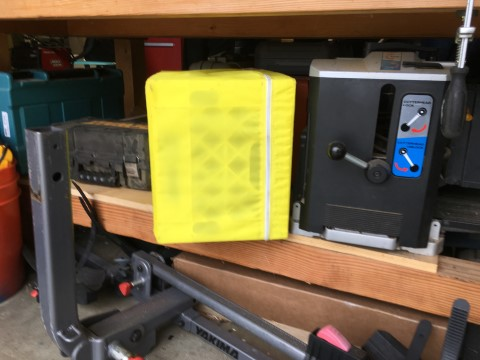cube: (143, 68, 297, 244)
